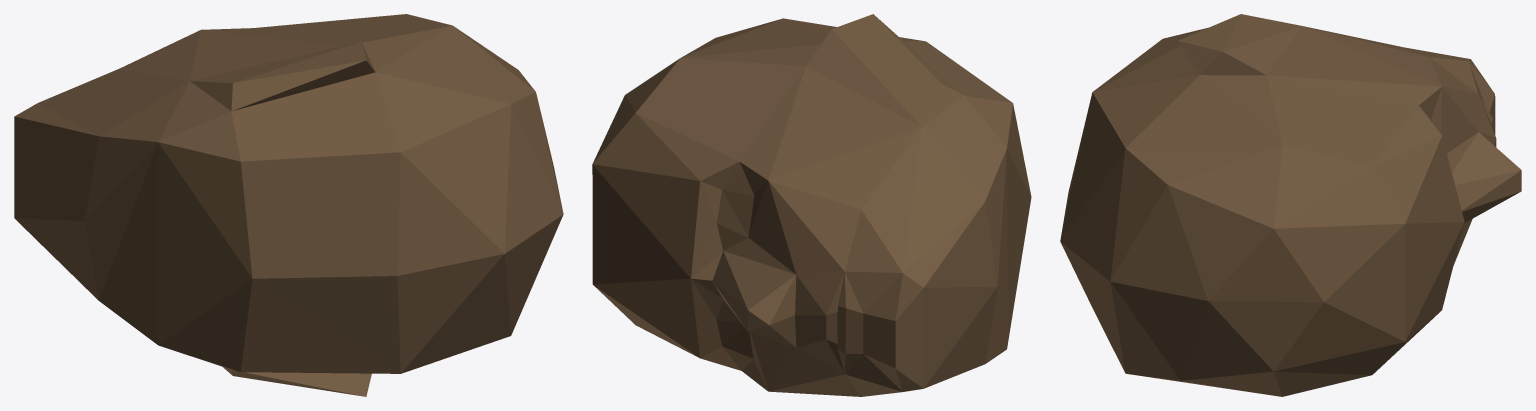
Rendered from HUM_HEAD_UNICORN.OBJ.
3 renders of one model, left to right at view 1: azimuth 30°, elevation 25°; view 2: azimuth 150°, elevation 25°; view 3: azimuth 270°, elevation 25°, orthographic. The views are drawn at different scales.
Parts seen in each view (by area): view 1: HUM_HEAD_UNICORN; view 2: HUM_HEAD_UNICORN; view 3: HUM_HEAD_UNICORN.
Boxes of the visible parts, <box> form: HUM_HEAD_UNICORN: <box>14,14,563,396</box>; HUM_HEAD_UNICORN: <box>592,14,1031,396</box>; HUM_HEAD_UNICORN: <box>1060,14,1521,396</box>.
Size of the model in its own units: 0.2321 by 0.1823 by 0.2327.
